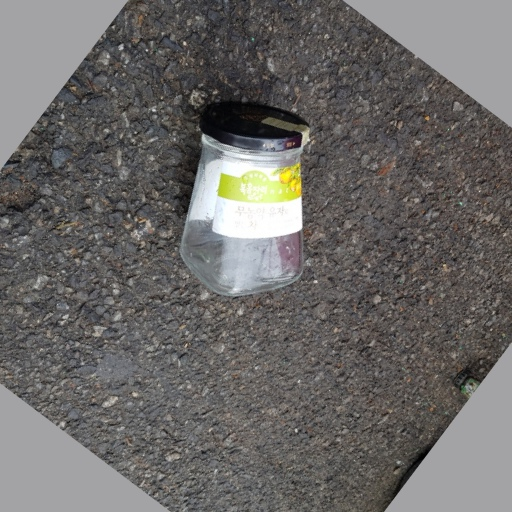Glass_5: (177, 99, 316, 301)
